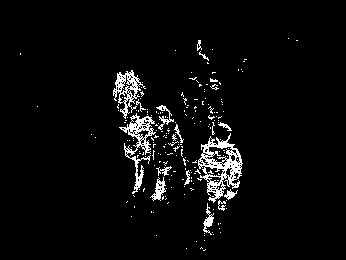person: (200, 119, 243, 241), (151, 100, 183, 204), (126, 105, 153, 195), (111, 65, 144, 135), (205, 69, 226, 135), (182, 69, 203, 125)
